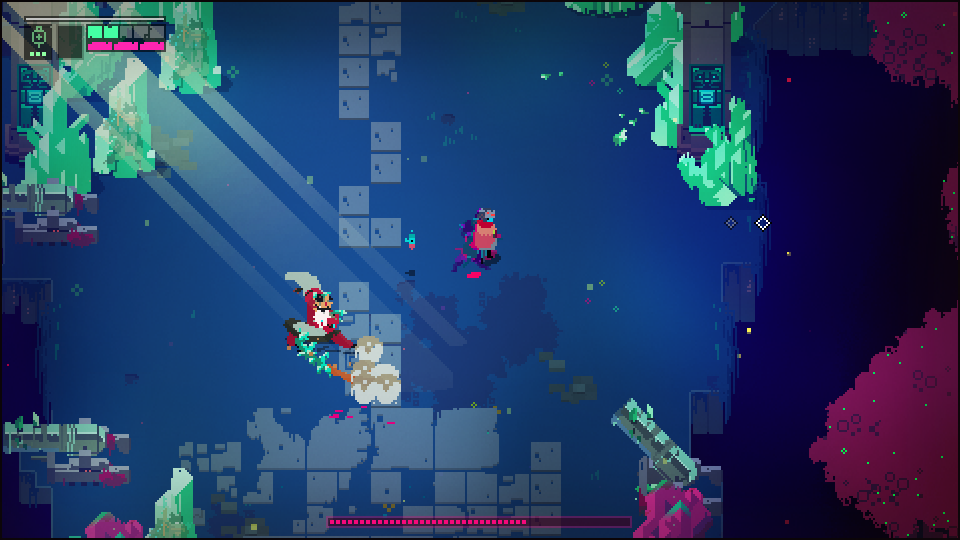hanged_man: (278, 265, 368, 389)
player: (470, 198, 499, 263)
